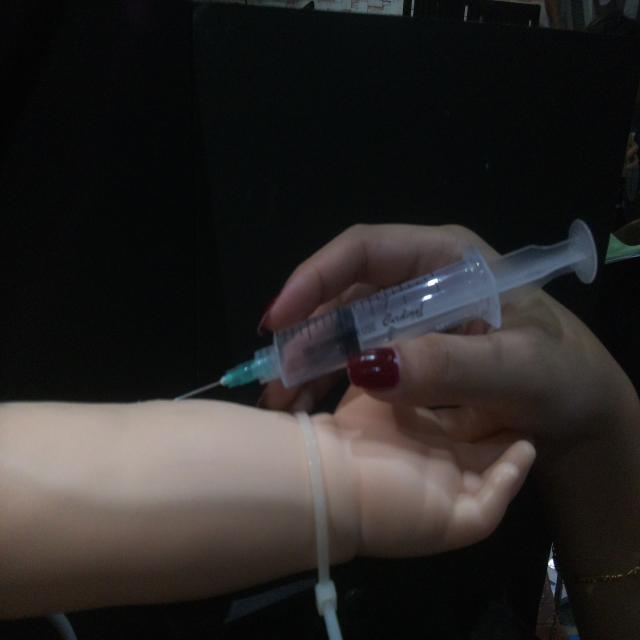17deg: (170, 214, 601, 403)
